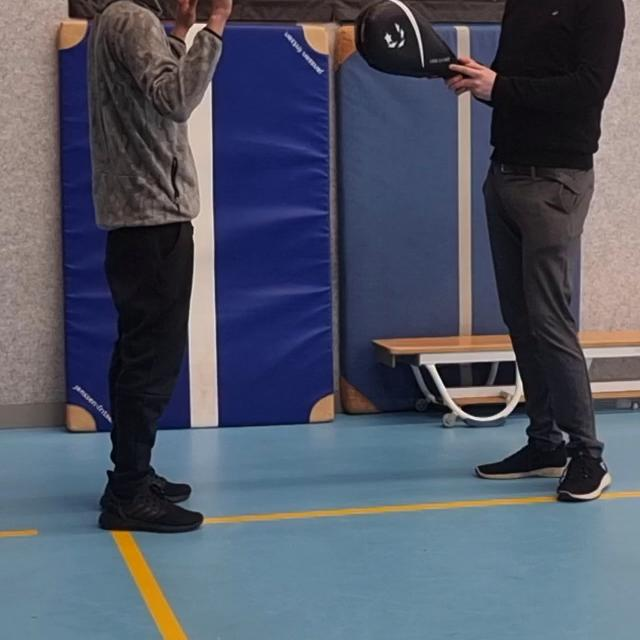paddle: (355, 0, 463, 80)
